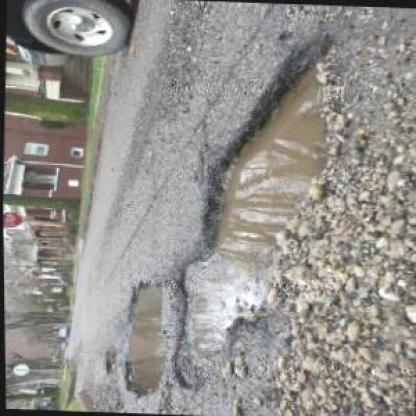pothole: (166, 33, 350, 397), (116, 279, 168, 399), (97, 348, 117, 376)
